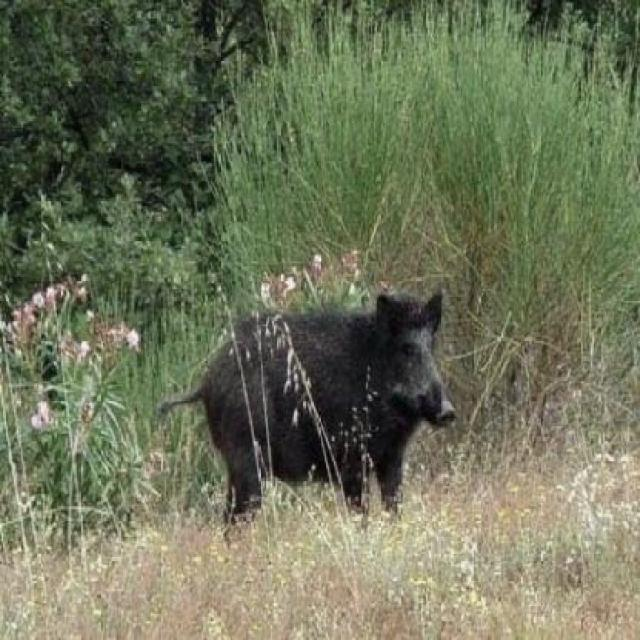Boar: (149, 274, 466, 532)
